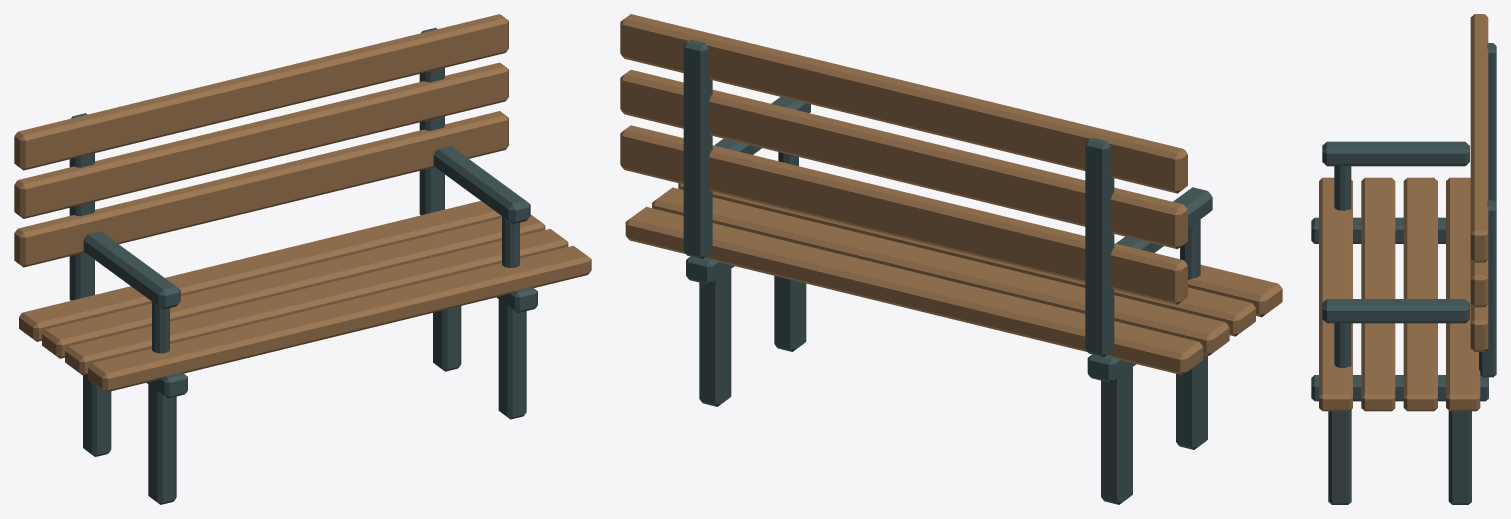
The model's file is bench.glb.
3 views of the same model, side by side, from view 1: azimuth 30°, elevation 25°; view 2: azimuth 150°, elevation 25°; view 3: azimuth 270°, elevation 25° (orthographic). The views are drawn at different scales.
Parts seen in each view (by area): view 1: PROP_Bench; view 2: PROP_Bench; view 3: PROP_Bench.
Part boxes in pixels (box(x1,y1,x2,y2)): PROP_Bench: box(14, 14, 591, 504); PROP_Bench: box(620, 14, 1282, 504); PROP_Bench: box(1311, 14, 1496, 504).
Size of the model in its own units: 1.9 by 1.21 by 0.6775.
